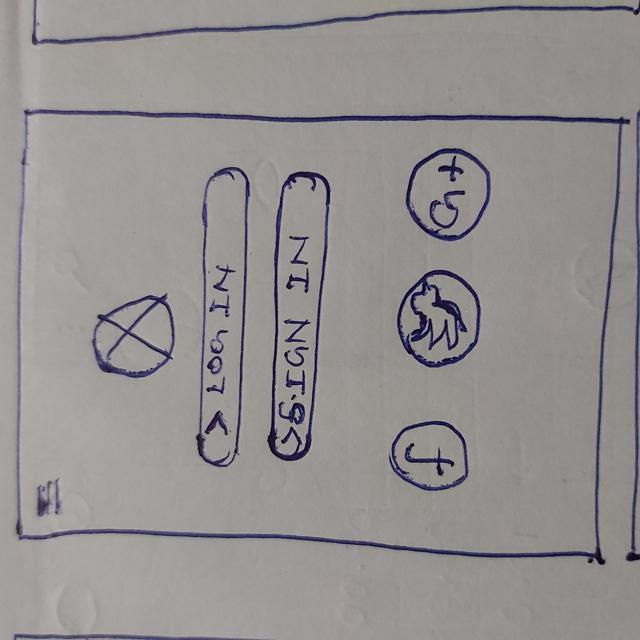Button: (271, 169, 331, 462), (196, 164, 249, 465)
DrawerToggleButton: (32, 477, 64, 519)
Icon: (205, 405, 230, 441), (279, 424, 304, 448)
IconButton: (404, 145, 498, 246), (396, 267, 483, 372), (388, 420, 475, 493)
MainLayout: (13, 101, 620, 572)
RoundedImage: (89, 292, 178, 378)
